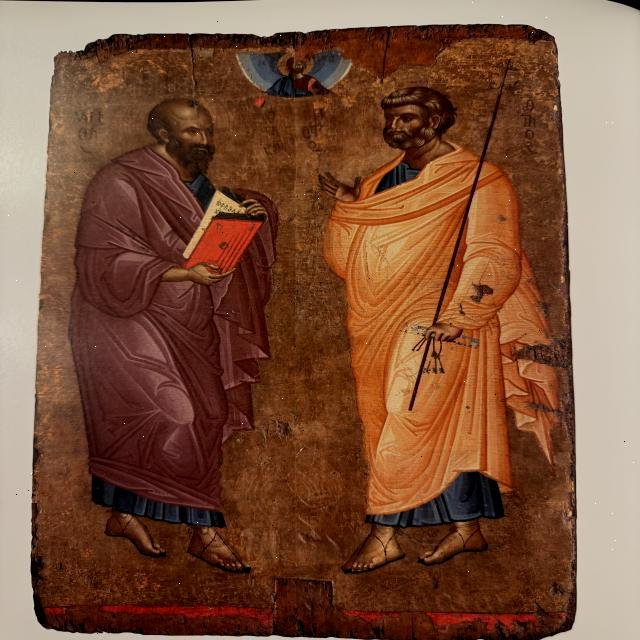book: (168, 186, 274, 280)
christ_pantocrator: (231, 47, 353, 109)
saint: (48, 97, 269, 585), (322, 85, 538, 579)
scepter: (394, 55, 526, 415)
